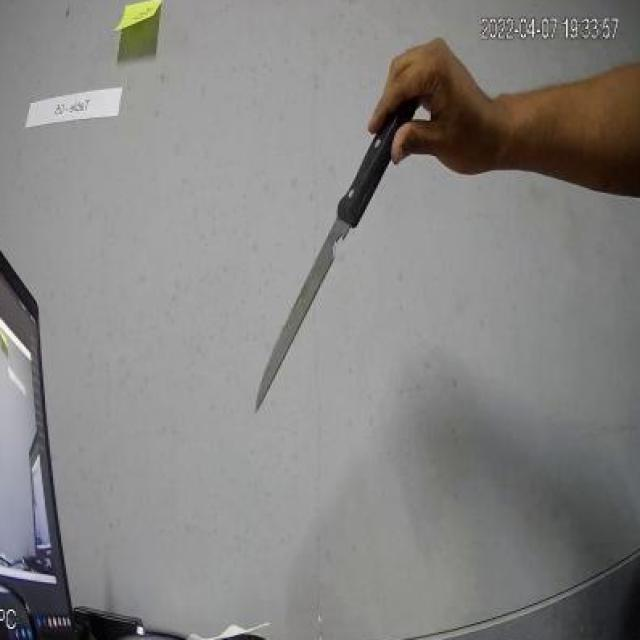Knife: (236, 80, 448, 412)
